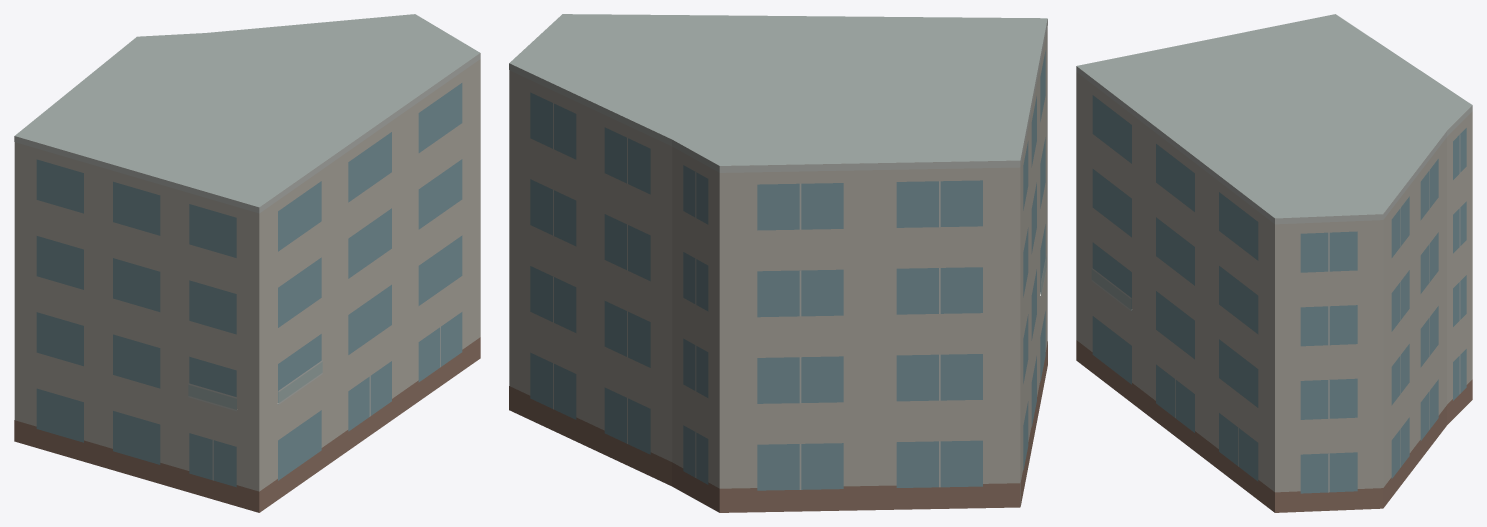
Rendered from survey-upis-32644231.glb.
3 views of the same model, side by side, from view 1: azimuth 30°, elevation 25°; view 2: azimuth 150°, elevation 25°; view 3: azimuth 270°, elevation 25° (orthographic). The views are drawn at different scales.
Visible parts, largest first — view 1: survey-upis-32644231.tmp; view 2: survey-upis-32644231.tmp; view 3: survey-upis-32644231.tmp.
Boxes of the visible parts, x1,y1,x2,y2 form: survey-upis-32644231.tmp: (14,14,480,512); survey-upis-32644231.tmp: (509,14,1047,512); survey-upis-32644231.tmp: (1076,14,1472,512).
Bounding box in the file's own units: 18.18 × 12.2 × 14.89.
